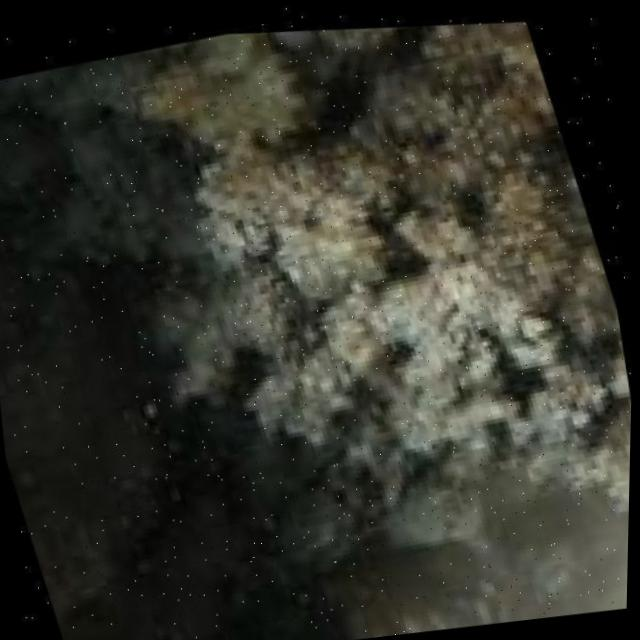Bleached Coral: (173, 178, 629, 561)
Healthy Coral: (208, 1, 596, 315)
